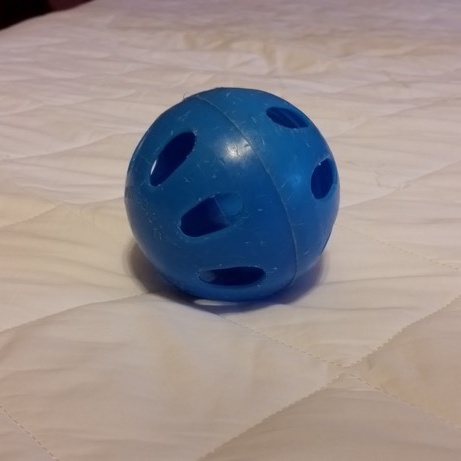blueball: (120, 83, 345, 307)
